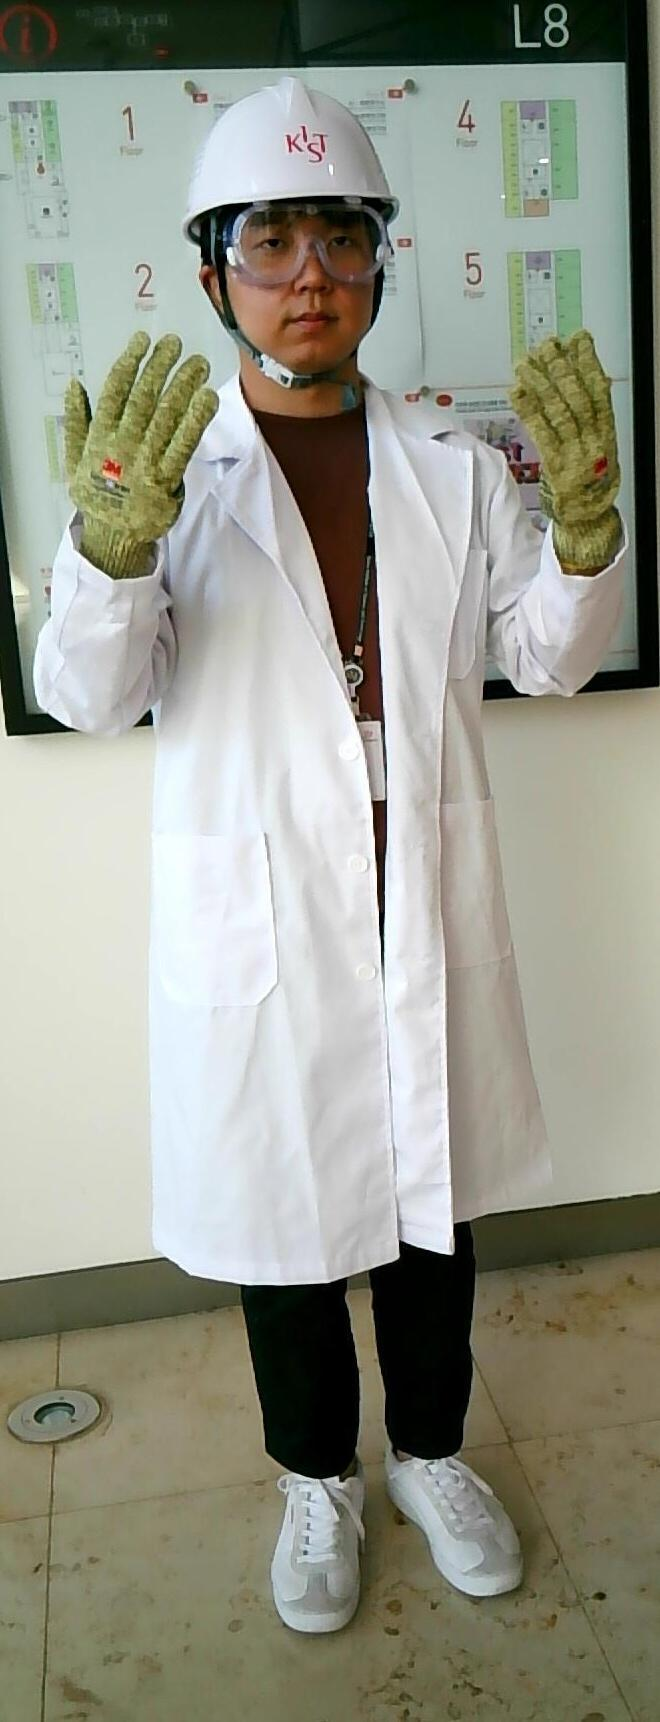lab_coat: (170, 544, 534, 1215)
